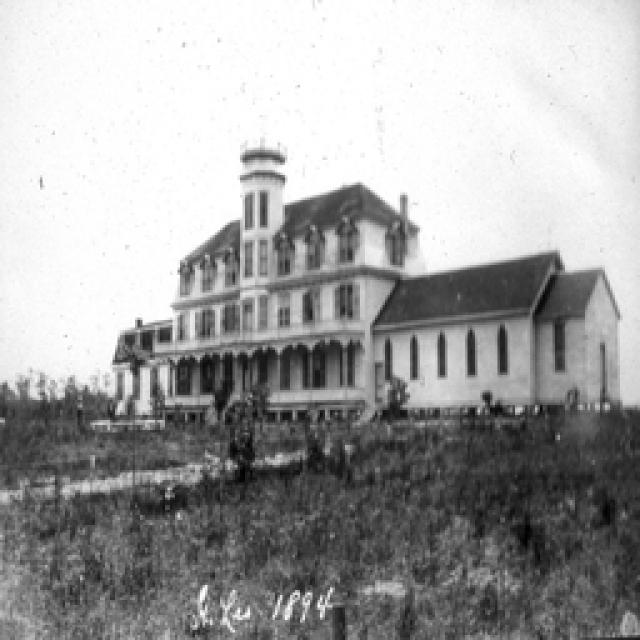Abbey: (106, 134, 626, 429)
